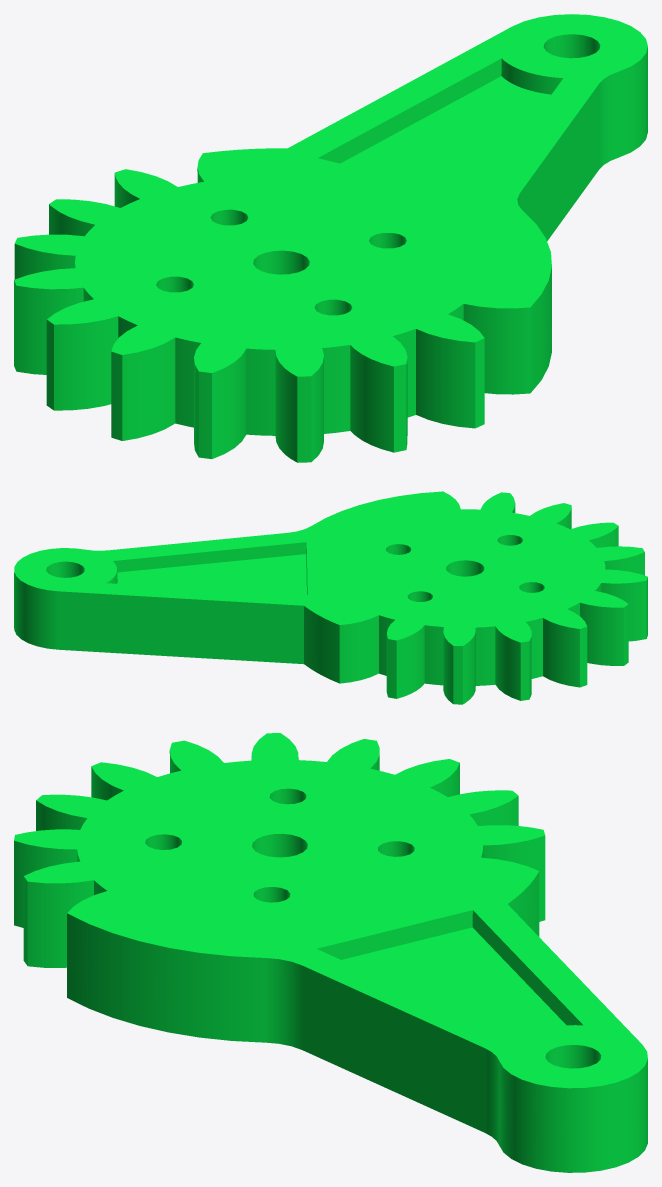
Rendered from gripper_right3.dae.
The picture shows the model from 3 angles, top to bottom: view 1: azimuth 30°, elevation 25°; view 2: azimuth 150°, elevation 25°; view 3: azimuth 270°, elevation 25°; orthographic projection. The views are drawn at different scales.
Visible parts, largest first — view 1: Brep; view 2: Brep; view 3: Brep.
Part boxes in pixels (left/top/right/bottom): Brep: left=14, top=14, right=647, bottom=462; Brep: left=14, top=491, right=647, bottom=704; Brep: left=14, top=733, right=647, bottom=1172.
Bounding box in the file's own units: 44.97 × 33.93 × 5.
